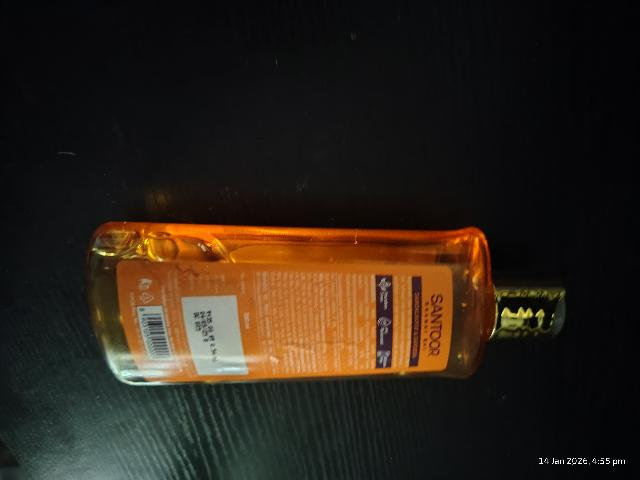santoor bodywash: (92, 234, 570, 386)
